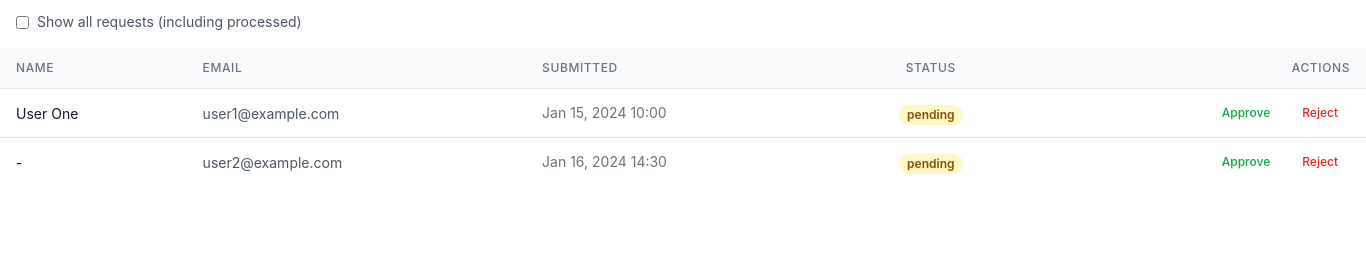
RegistrationRequests › should handle approve error
Expected: the text "user1@example.com" is shown, [203,105,339,122]
Click the button "Approve" in the row of "User One".
click(1246, 113)  # box [1210,101,1282,125]
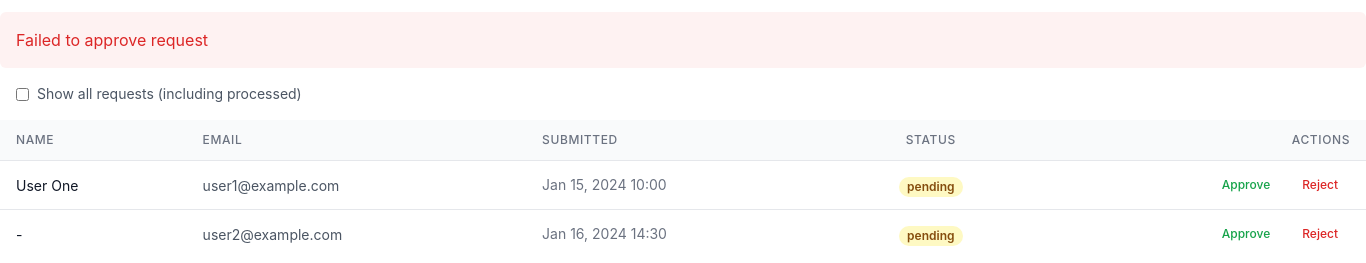
Now the text "Failed to approve request" is shown, box [0,12,1365,68]
